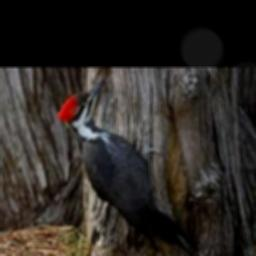Woodpecker: (55, 76, 193, 255)
